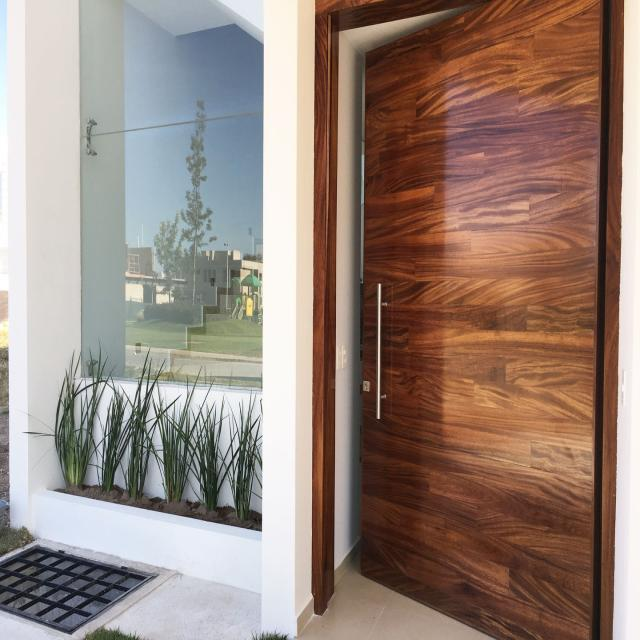door: (355, 0, 617, 639)
